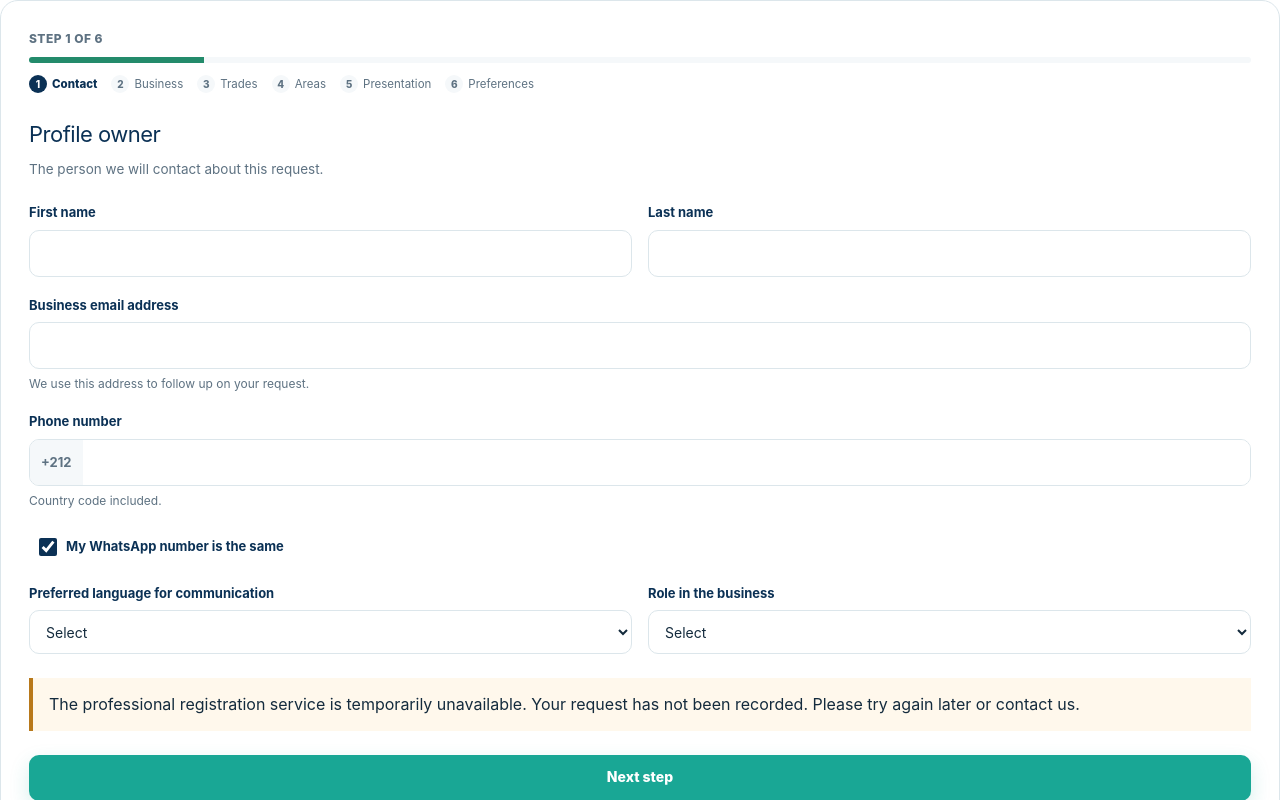
Scenario: RegistrationForm in English › shows English validation messages
Click the button "Next step" at (640, 778), box left=29, top=755, right=1251, bottom=799
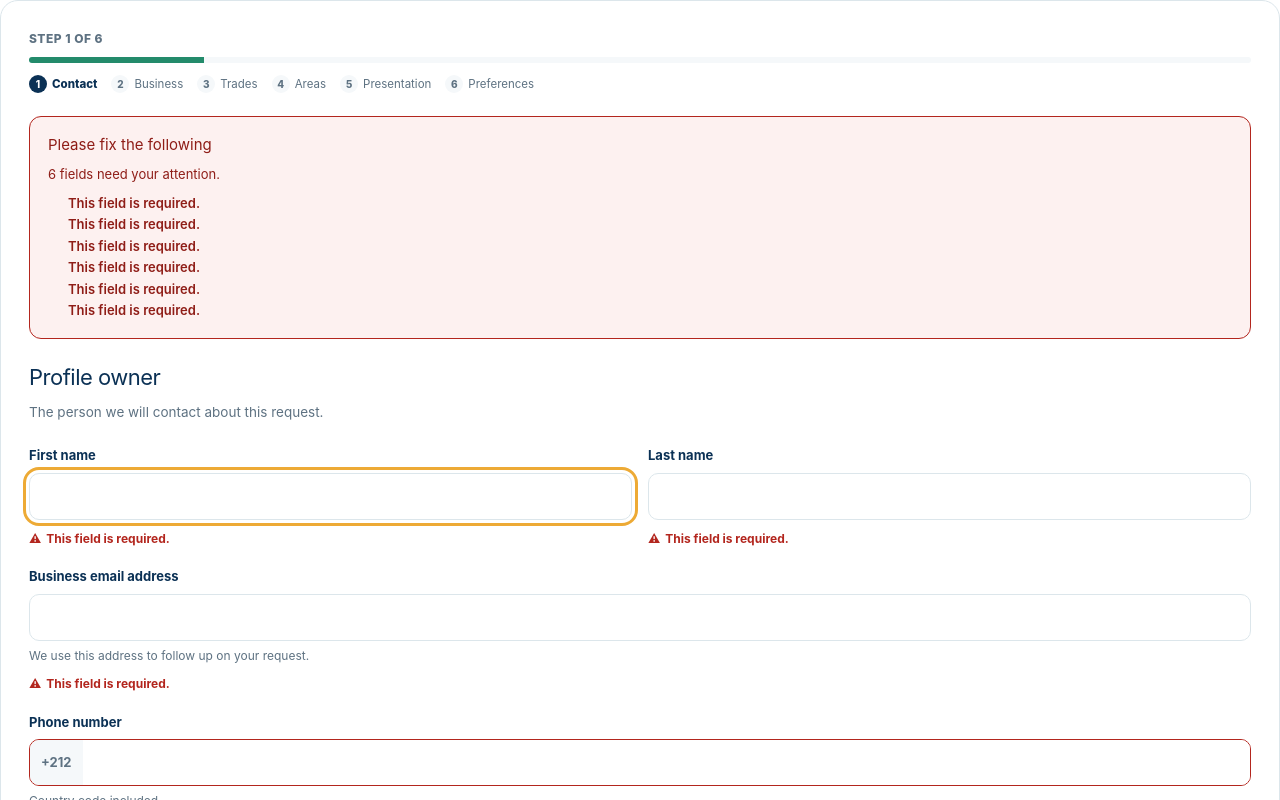
Expected: the heading "Please fix the following" is shown, left=48, top=135, right=212, bottom=154
Expected: the 1st link "This field is required." is shown, left=68, top=195, right=200, bottom=211
